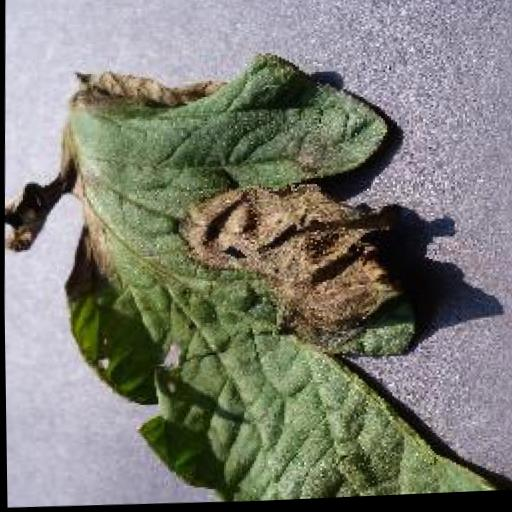Late Blight: (1, 41, 512, 512)
